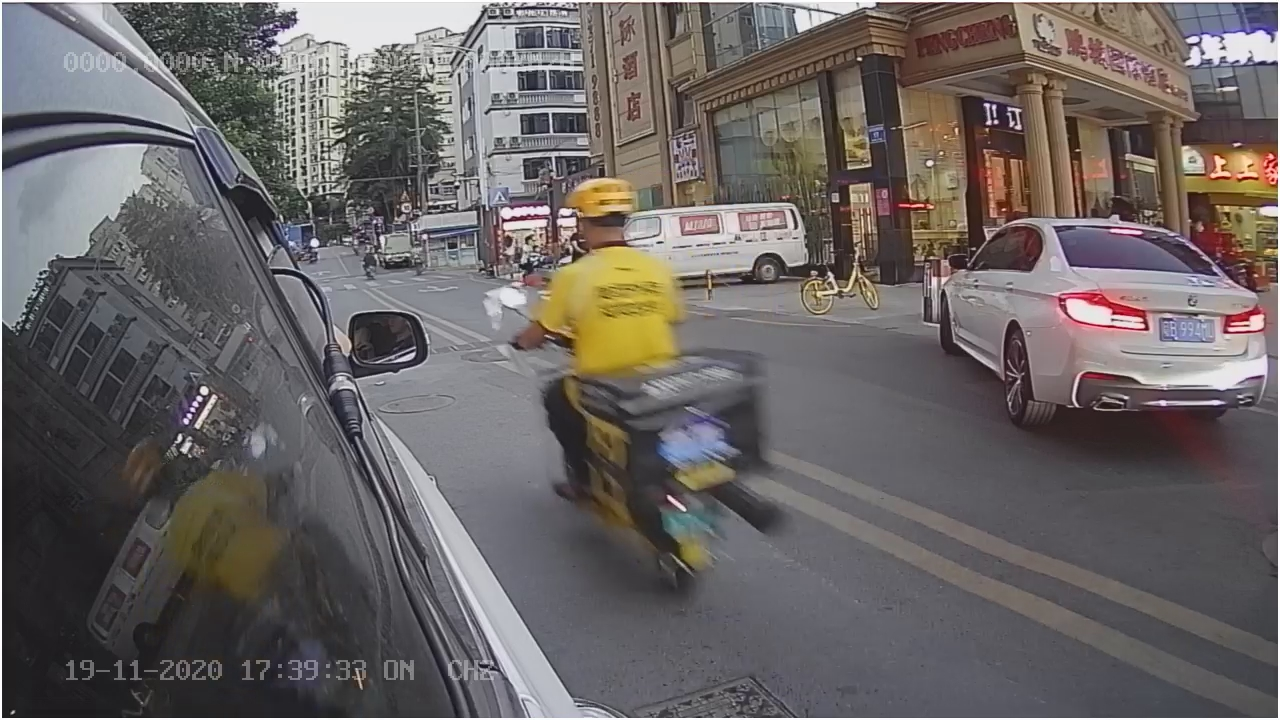person: (534, 180, 682, 366)
